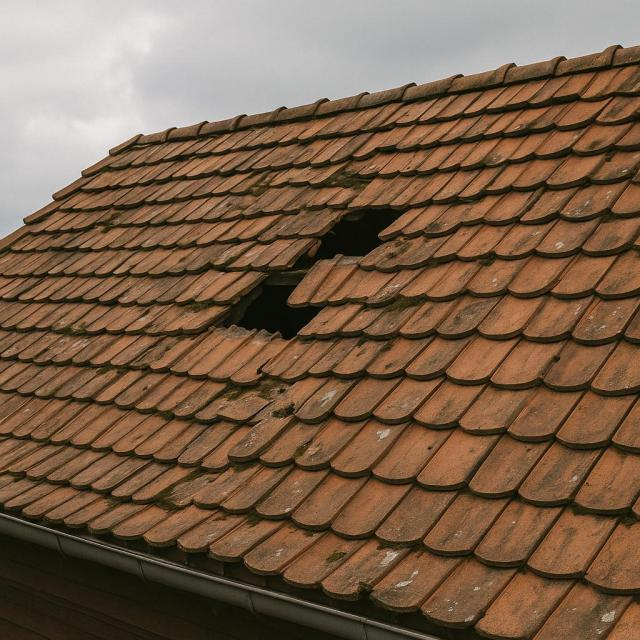trou: (185, 198, 414, 345)
